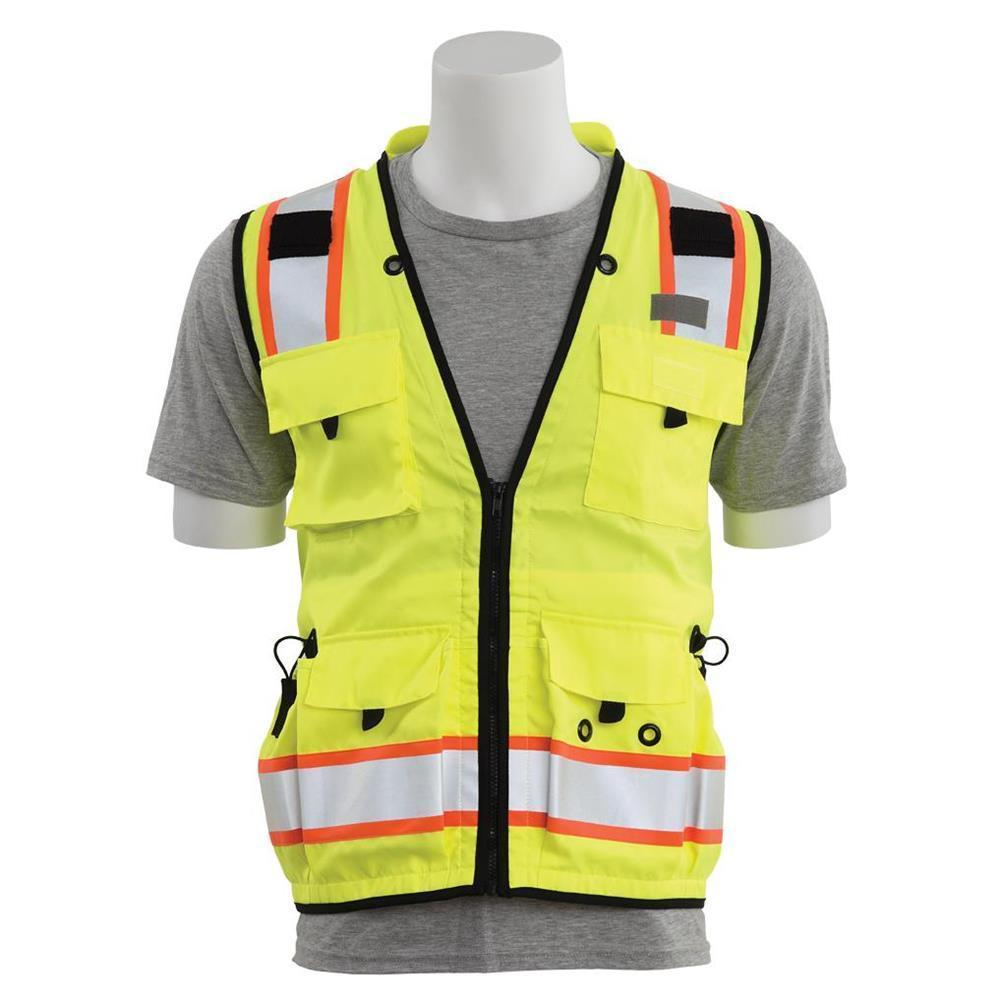vest: (235, 124, 775, 909)
